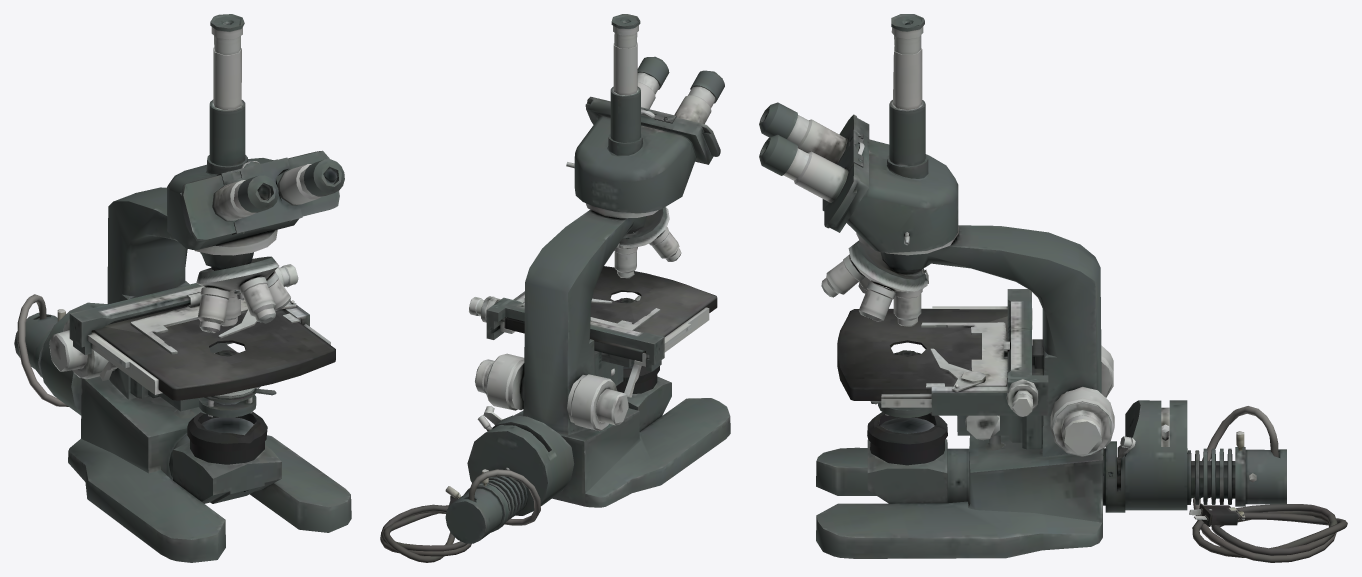
Rendered from industrial_microscope.64577d8c.glb.
3 views of the same model, side by side, from view 1: azimuth 30°, elevation 25°; view 2: azimuth 150°, elevation 25°; view 3: azimuth 270°, elevation 25° (orthographic). The views are drawn at different scales.
Visible parts, largest first — view 1: industrial_microscope, industrial_microscope_cable; view 2: industrial_microscope, industrial_microscope_cable; view 3: industrial_microscope, industrial_microscope_cable.
Boxes of the visible parts, bbox=[...] form: industrial_microscope: bbox=[14, 14, 351, 562]; industrial_microscope_cable: bbox=[17, 294, 68, 406]; industrial_microscope: bbox=[445, 14, 730, 543]; industrial_microscope_cable: bbox=[380, 469, 540, 562]; industrial_microscope: bbox=[759, 14, 1286, 558]; industrial_microscope_cable: bbox=[1189, 406, 1347, 562].
Bounding box in the file's own units: 0.3101 × 0.6675 × 0.72.
Materials: 1 (1 with a texture image).
